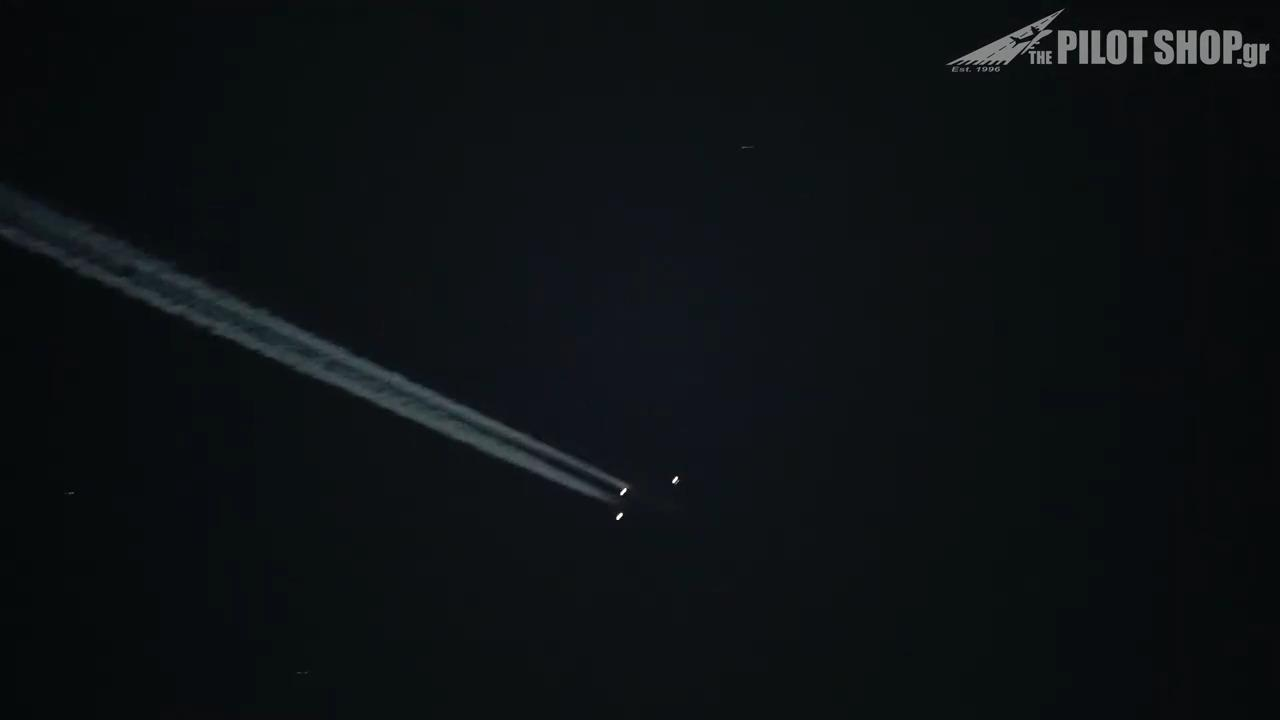Plane: (517, 451, 727, 536)
